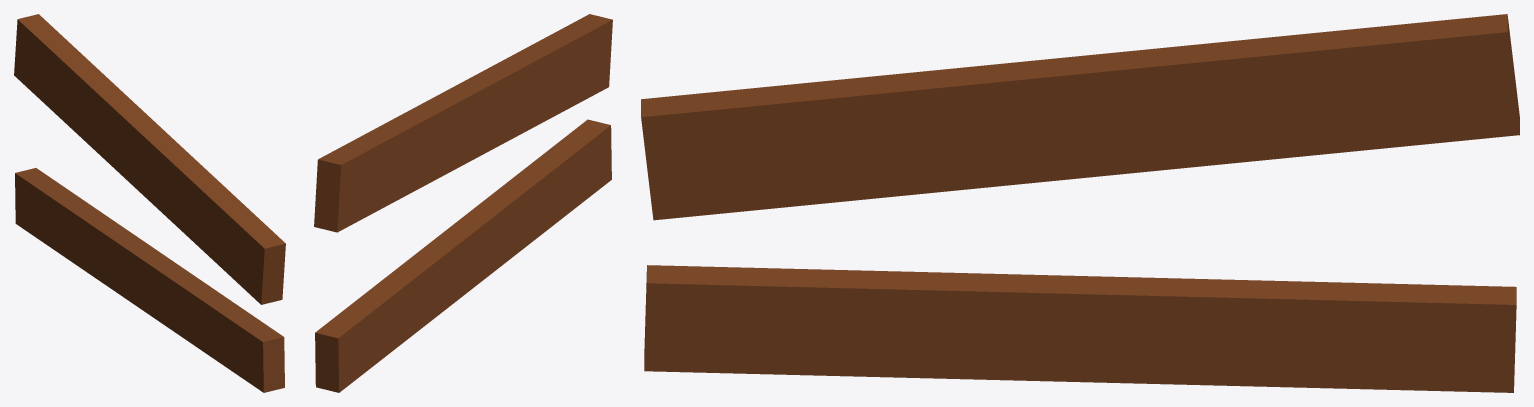
File: Fence_planks_decoration.fbx
3 views of the same model, side by side, from view 1: azimuth 30°, elevation 25°; view 2: azimuth 150°, elevation 25°; view 3: azimuth 270°, elevation 25° (orthographic). The views are drawn at different scales.
Parts seen in each view (by area): view 1: Fence_planks_decoration; view 2: Fence_planks_decoration; view 3: Fence_planks_decoration.
Part boxes in pixels (x1,y1,x2,y2): Fence_planks_decoration: (14, 14, 285, 392); Fence_planks_decoration: (314, 14, 612, 392); Fence_planks_decoration: (641, 14, 1519, 392).
Bounding box in the file's own units: 14.78 × 137 × 302.
